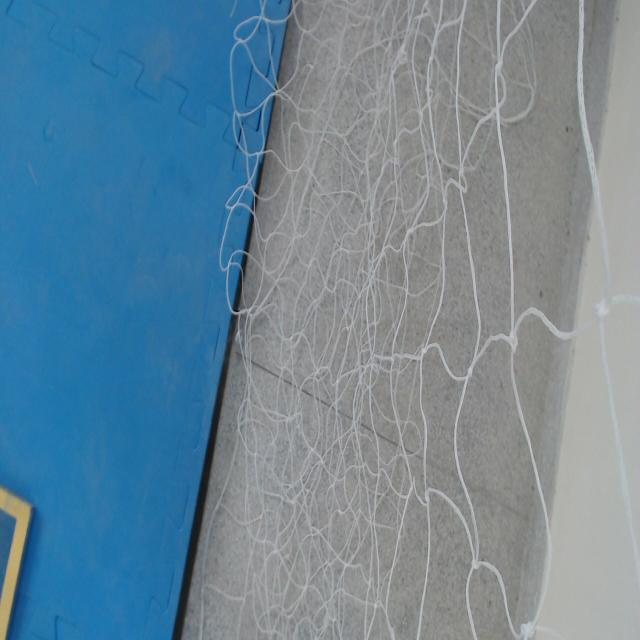base_pouso: (0, 487, 35, 639)
